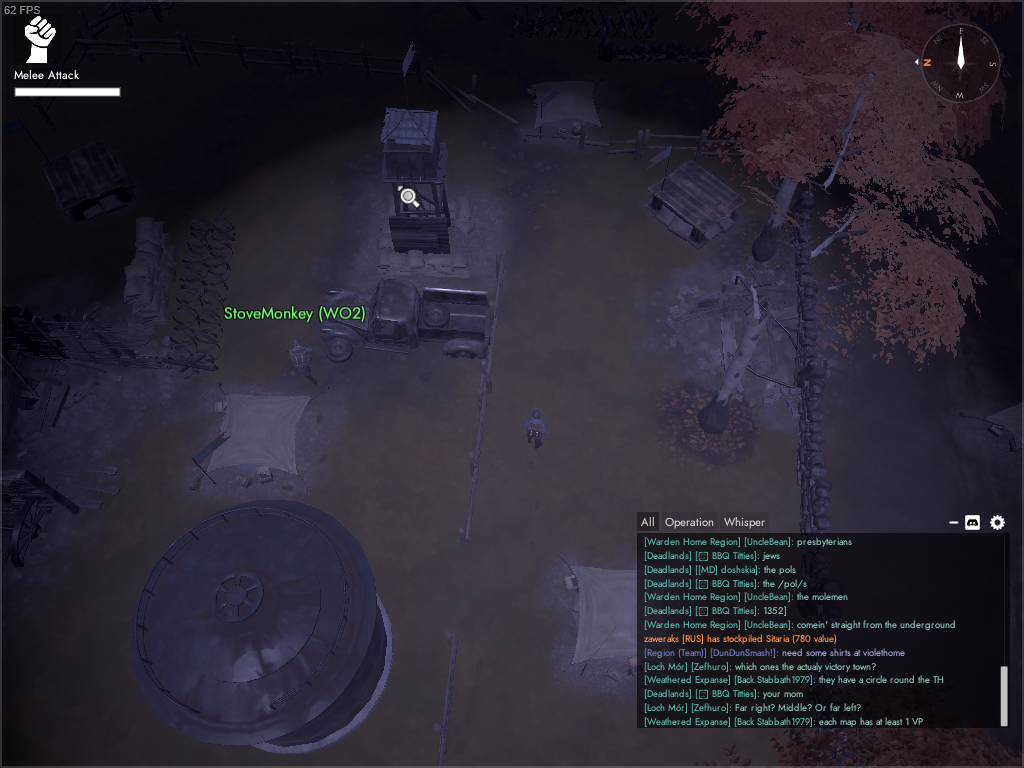foxhole: (550, 549, 703, 698), (183, 374, 331, 500), (509, 68, 620, 152), (957, 372, 1024, 468)
pillbox: (641, 141, 749, 252), (32, 134, 142, 228)
player: (282, 335, 321, 389), (521, 409, 550, 450)
sandbag: (118, 212, 181, 331)
watchtower: (370, 35, 479, 283)
wire: (162, 202, 243, 379), (507, 2, 657, 42)
